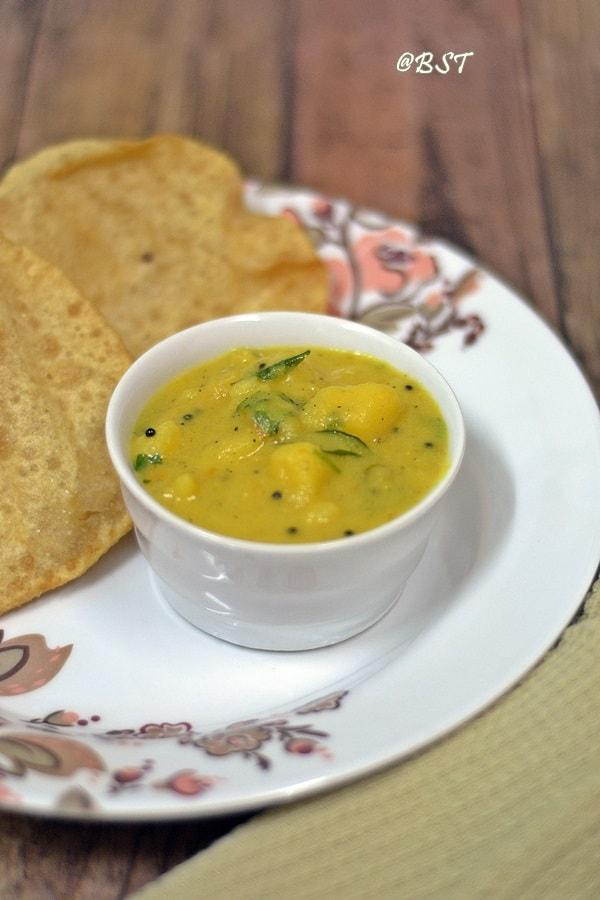puri: (10, 130, 365, 340)
